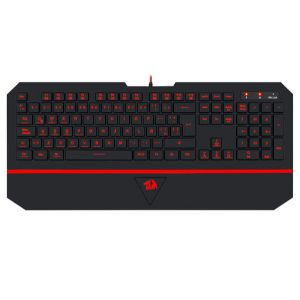keyboard: (5, 76, 297, 213)
